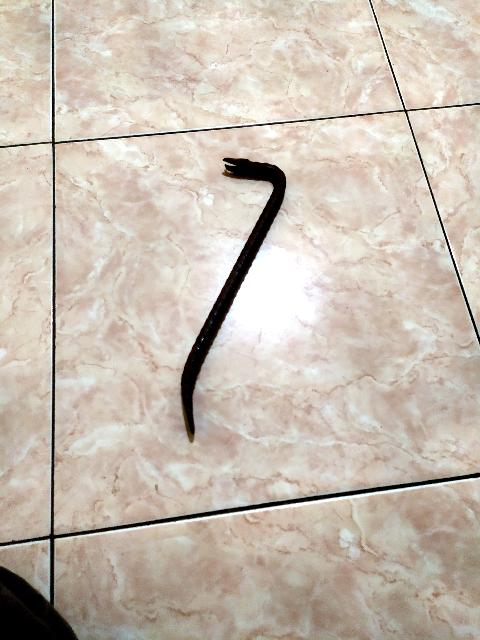crow bar: (171, 152, 298, 445)
